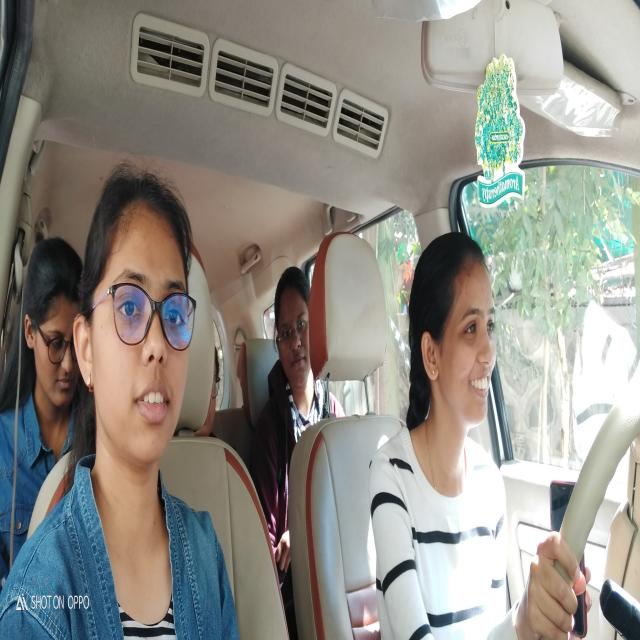mobile: (540, 460, 592, 640)
person: (69, 166, 204, 468), (427, 221, 507, 438), (14, 226, 87, 424), (266, 265, 318, 416)
